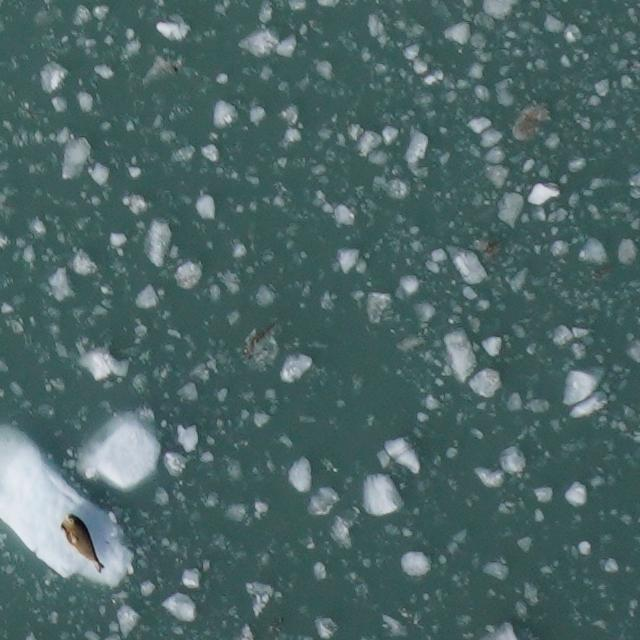seal: (54, 509, 109, 578)
